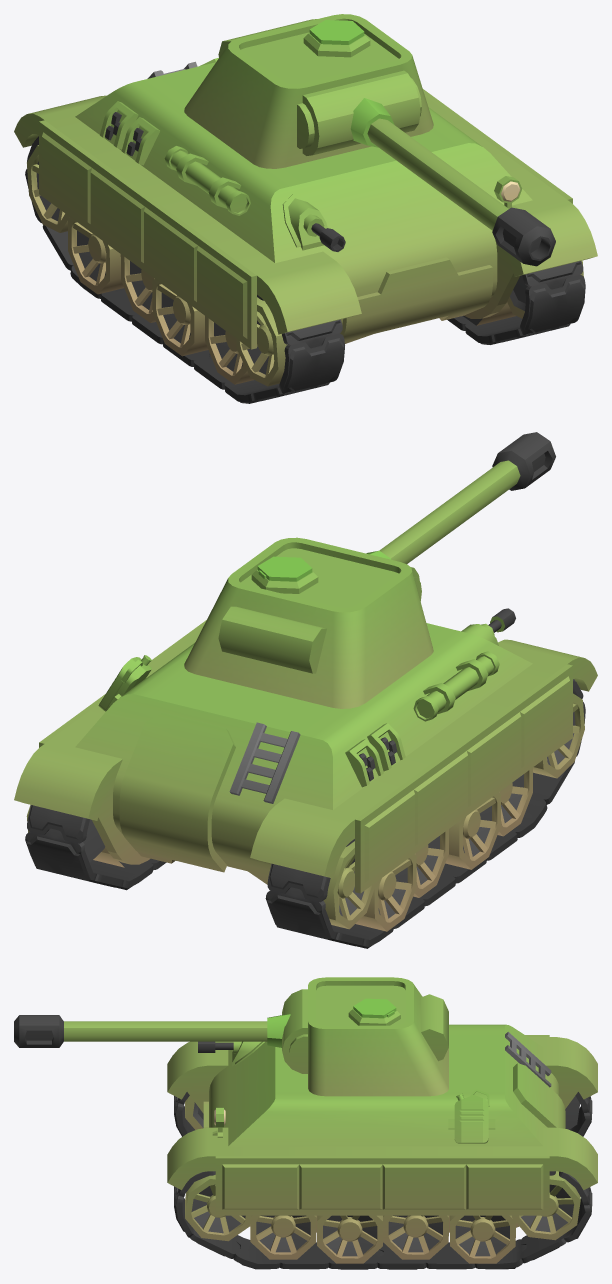
The model's file is Panzer.glb.
3 views of the same model, one above another, from view 1: azimuth 30°, elevation 25°; view 2: azimuth 150°, elevation 25°; view 3: azimuth 270°, elevation 25° (orthographic). The views are drawn at different scales.
Visible parts, largest first — view 1: Tank, Plane.080, Plane.077, Box.511, Plane.078, Plane.084, Cylinder.006, Cylinder.004, Cylinder.007, Cylinder.012, Cylinder.009, Cylinder.008 (+13 smaller); view 2: Tank, Box.511, Plane.077, Plane.080, Plane.085, Plane.078, Cylinder.006, Cylinder.013, Cylinder.011, Cylinder.012, Cylinder.009, Plane.082 (+11 smaller); view 3: Tank, Plane.080, Box.511, Plane.077, Plane.078, Cylinder.006, Cylinder.009, Cylinder.012, Cylinder.007, Cylinder.011, Cylinder.008, Cylinder.010 (+11 smaller).
Boxes of the visible parts, box(x1,y1,x2,y2) form: Tank: box(75, 62, 532, 324); Plane.080: box(39, 89, 572, 349); Plane.077: box(14, 95, 597, 334); Box.511: box(184, 14, 433, 168); Plane.078: box(25, 136, 585, 403); Plane.084: box(340, 257, 492, 343); Cylinder.006: box(367, 118, 555, 266); Cylinder.004: box(297, 70, 421, 155); Cylinder.007: box(236, 260, 583, 386); Cylinder.012: box(68, 217, 123, 294); Cylinder.009: box(152, 279, 208, 356); Cylinder.008: box(205, 302, 515, 384); Tank: box(75, 623, 532, 884); Box.511: box(184, 537, 433, 708); Plane.077: box(14, 629, 597, 878); Plane.080: box(39, 620, 572, 893); Plane.085: box(119, 712, 235, 872); Plane.078: box(25, 679, 585, 948); Cylinder.006: box(379, 432, 555, 564); Cylinder.013: box(218, 606, 326, 673); Cylinder.011: box(26, 804, 376, 929); Cylinder.012: box(93, 847, 416, 931); Cylinder.009: box(445, 792, 500, 869); Plane.082: box(229, 722, 300, 803); Tank: box(209, 1024, 559, 1146); Plane.080: box(215, 1035, 549, 1215); Box.511: box(308, 977, 448, 1096); Plane.077: box(167, 1037, 597, 1190); Plane.078: box(174, 1092, 592, 1269); Cylinder.006: box(14, 1015, 267, 1047); Cylinder.009: box(317, 1215, 382, 1263); Cylinder.012: box(450, 1215, 515, 1263); Cylinder.007: box(185, 1096, 251, 1241); Cylinder.011: box(512, 1096, 580, 1240); Cylinder.008: box(250, 1215, 316, 1259); Cylinder.010: box(383, 1215, 448, 1259).
Size of the model in its own units: 1.62 by 1.3 by 3.18.
Materials: 1 (1 with a texture image).
